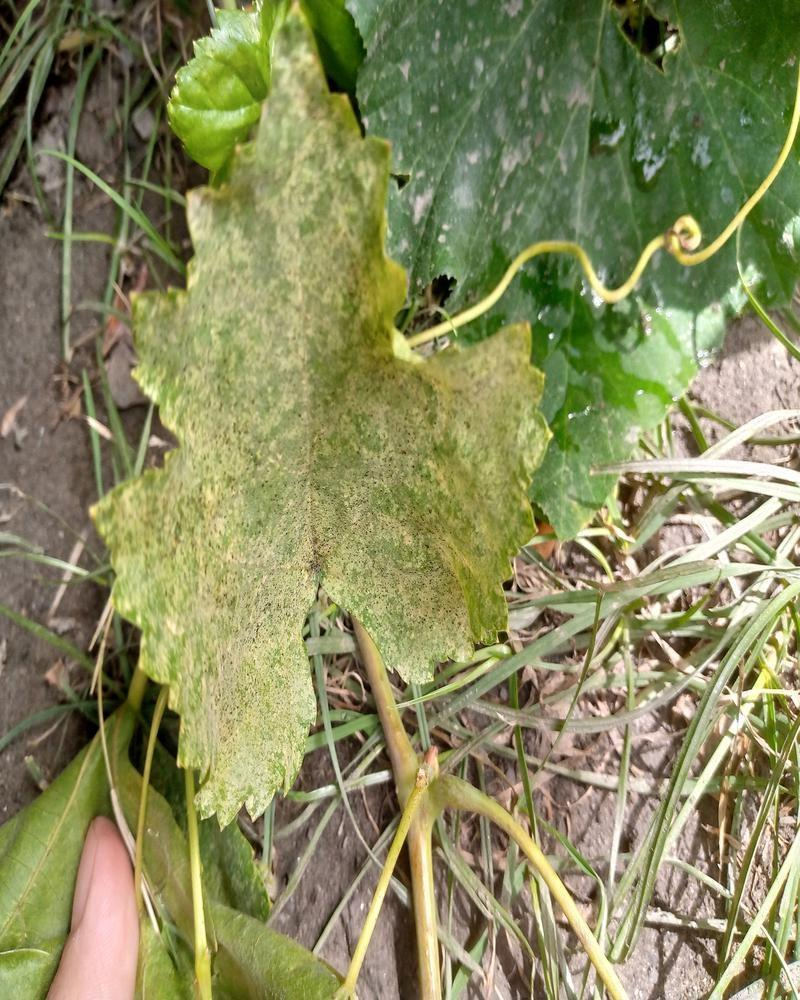Powdery-Mildew: (159, 47, 383, 441), (154, 455, 316, 802), (320, 458, 486, 666), (363, 336, 532, 535)
